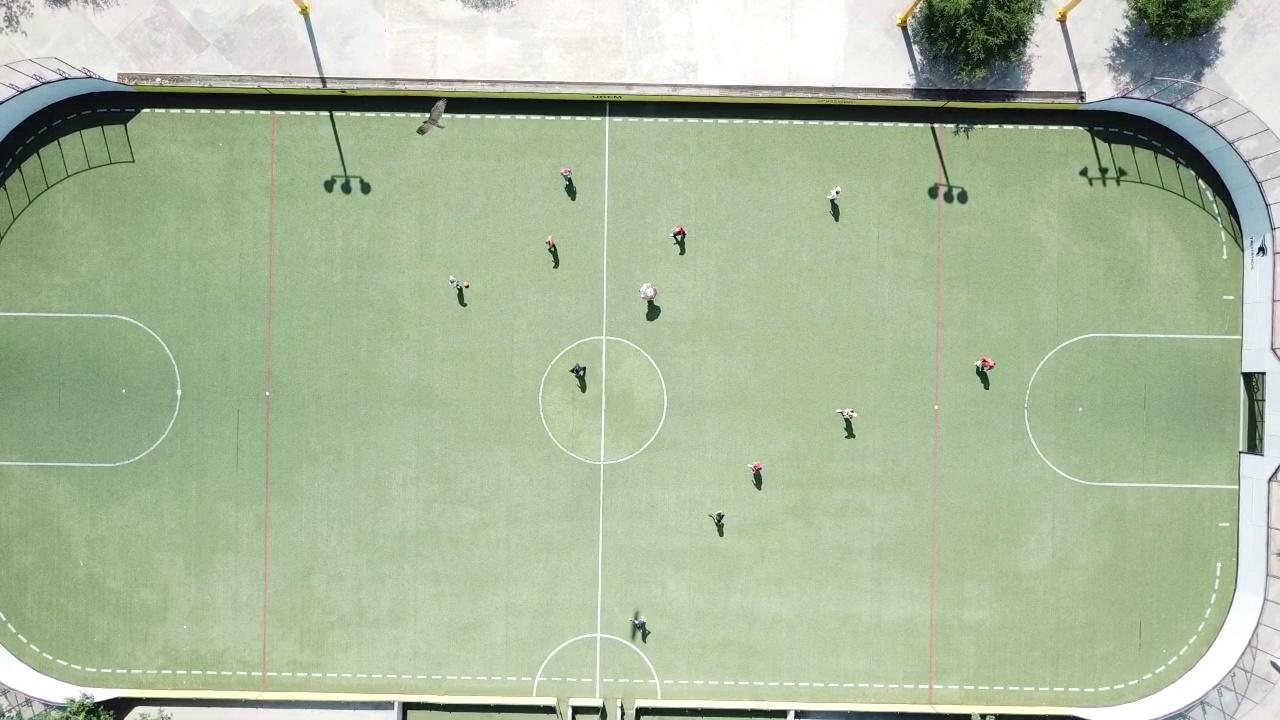ball: (464, 282, 471, 289)
player: (707, 507, 727, 529), (631, 613, 648, 632), (640, 285, 657, 302), (670, 225, 686, 243), (570, 363, 587, 379), (977, 356, 995, 371), (837, 408, 857, 420), (827, 186, 841, 202), (749, 461, 763, 476), (561, 167, 572, 181), (449, 275, 459, 289), (548, 235, 557, 249)
